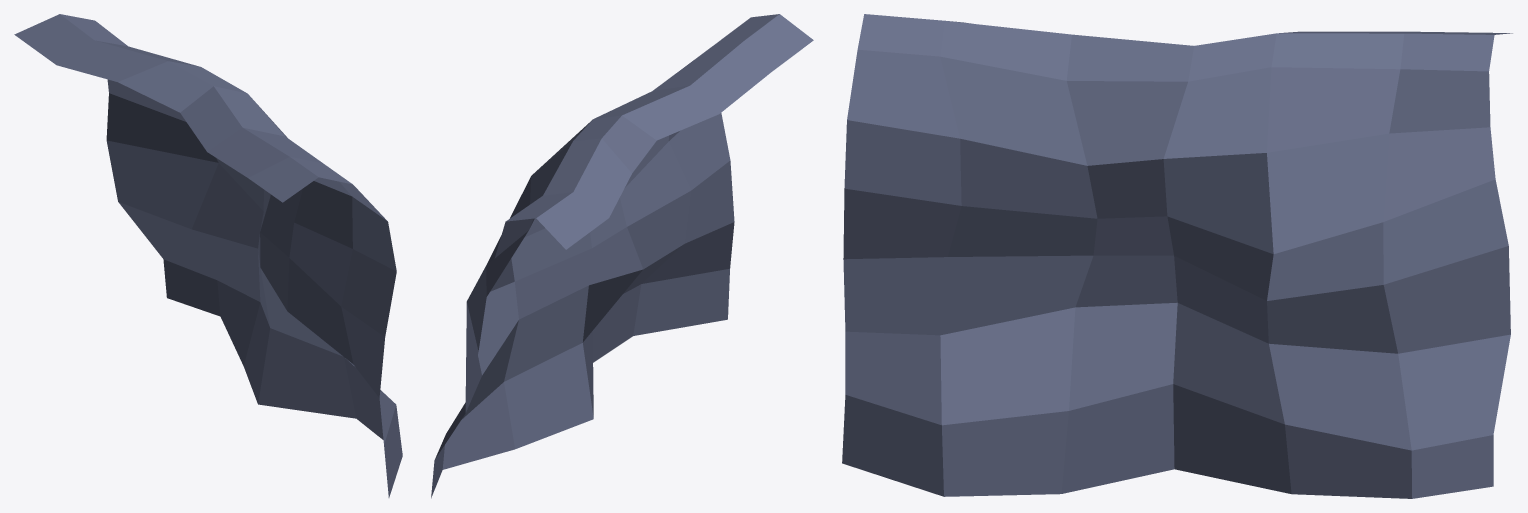
File: RockyWall.fbx
3 views of the same model, side by side, from view 1: azimuth 30°, elevation 25°; view 2: azimuth 150°, elevation 25°; view 3: azimuth 270°, elevation 25° (orthographic). The views are drawn at different scales.
Parts seen in each view (by area): view 1: Plane; view 2: Plane; view 3: Plane.
Part boxes in pixels (bbox=[...]): Plane: bbox=[14, 14, 402, 497]; Plane: bbox=[431, 14, 813, 498]; Plane: bbox=[842, 14, 1512, 498].
Bounding box in the file's own units: 1368 × 2661 × 3842.
